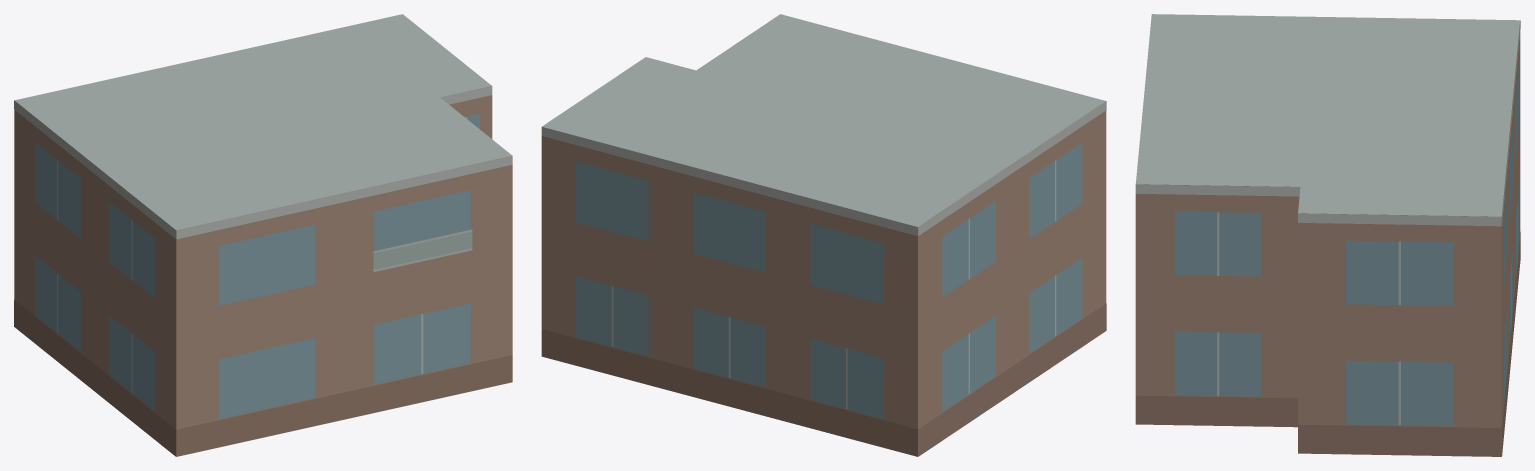
File: survey-upis-32798332.glb
3 views of the same model, side by side, from view 1: azimuth 30°, elevation 25°; view 2: azimuth 150°, elevation 25°; view 3: azimuth 270°, elevation 25° (orthographic). The views are drawn at different scales.
Parts seen in each view (by area): view 1: survey-upis-32798332.tmp; view 2: survey-upis-32798332.tmp; view 3: survey-upis-32798332.tmp.
Part boxes in pixels (x1,y1,x2,y2): survey-upis-32798332.tmp: (14,14,512,456); survey-upis-32798332.tmp: (541,14,1106,456); survey-upis-32798332.tmp: (1135,14,1520,456).
Size of the model in its own units: 11.05 by 6.1 by 8.86.
